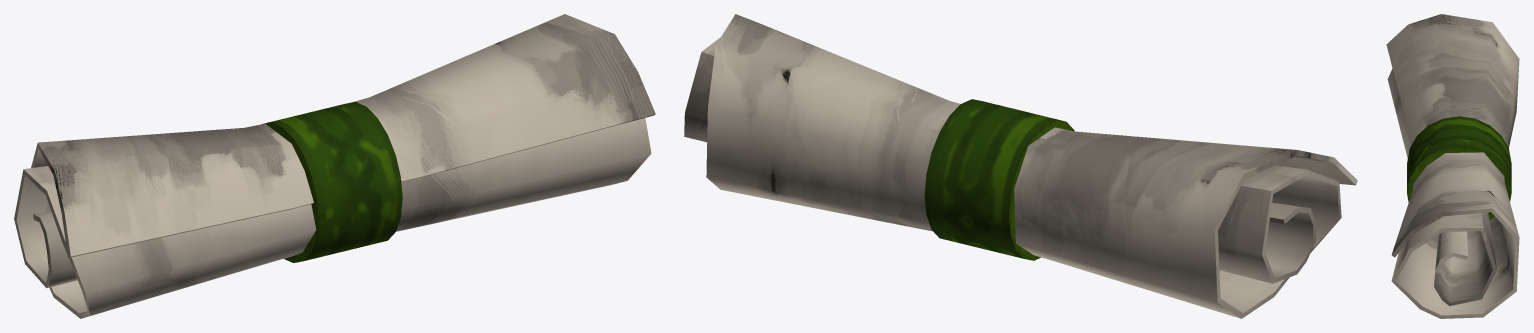
File: Scroll_1.glb
3 views of the same model, side by side, from view 1: azimuth 30°, elevation 25°; view 2: azimuth 150°, elevation 25°; view 3: azimuth 270°, elevation 25° (orthographic). The views are drawn at different scales.
Parts seen in each view (by area): view 1: Scroll_1; view 2: Scroll_1; view 3: Scroll_1.
Boxes of the visible parts, x1,y1,x2,y2 form: Scroll_1: [14, 14, 655, 318]; Scroll_1: [684, 14, 1357, 318]; Scroll_1: [1386, 14, 1519, 318].
Size of the model in its own units: 0.2439 by 0.0588 by 0.0631.
2 materials, 2 textured.
